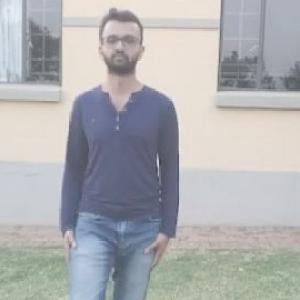follow: (62, 20, 181, 299)
